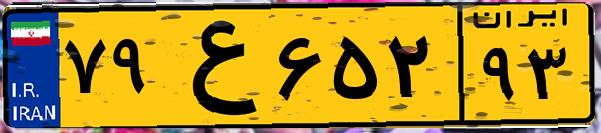2: (385, 28, 445, 110)
3: (525, 38, 570, 115)
5: (330, 28, 385, 110)
6: (270, 28, 330, 110)
7: (57, 26, 110, 100)
9: (475, 38, 525, 113), (110, 28, 158, 98)
ع: (158, 12, 270, 120)
